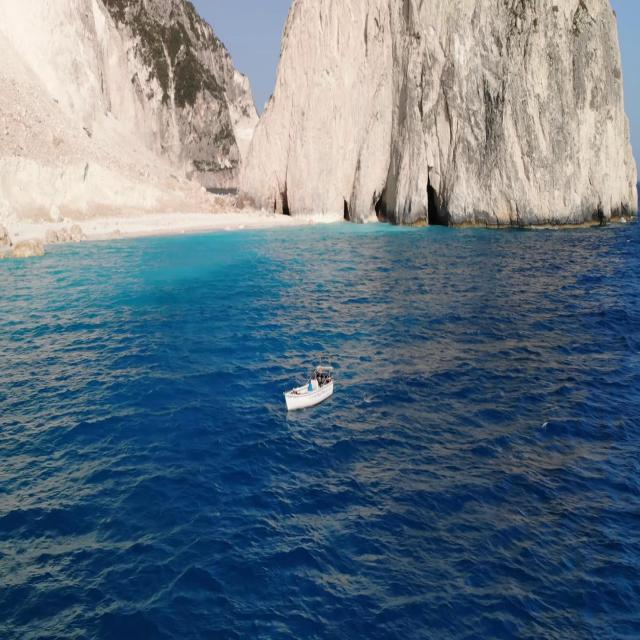boat: (284, 353, 334, 414)
